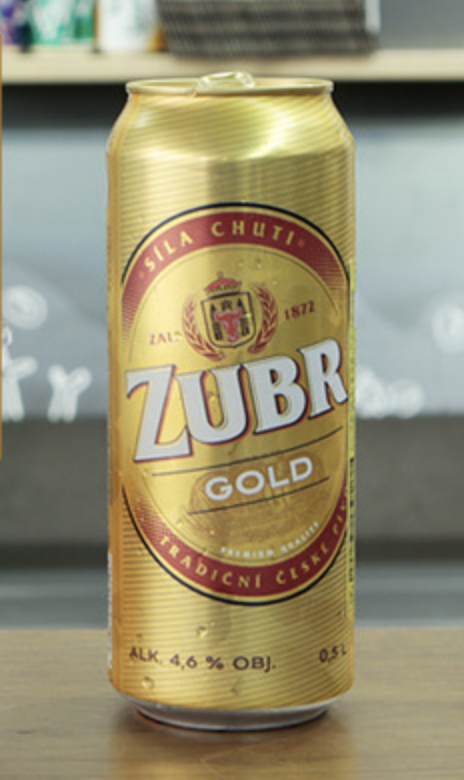beer-can: (105, 72, 353, 732)
